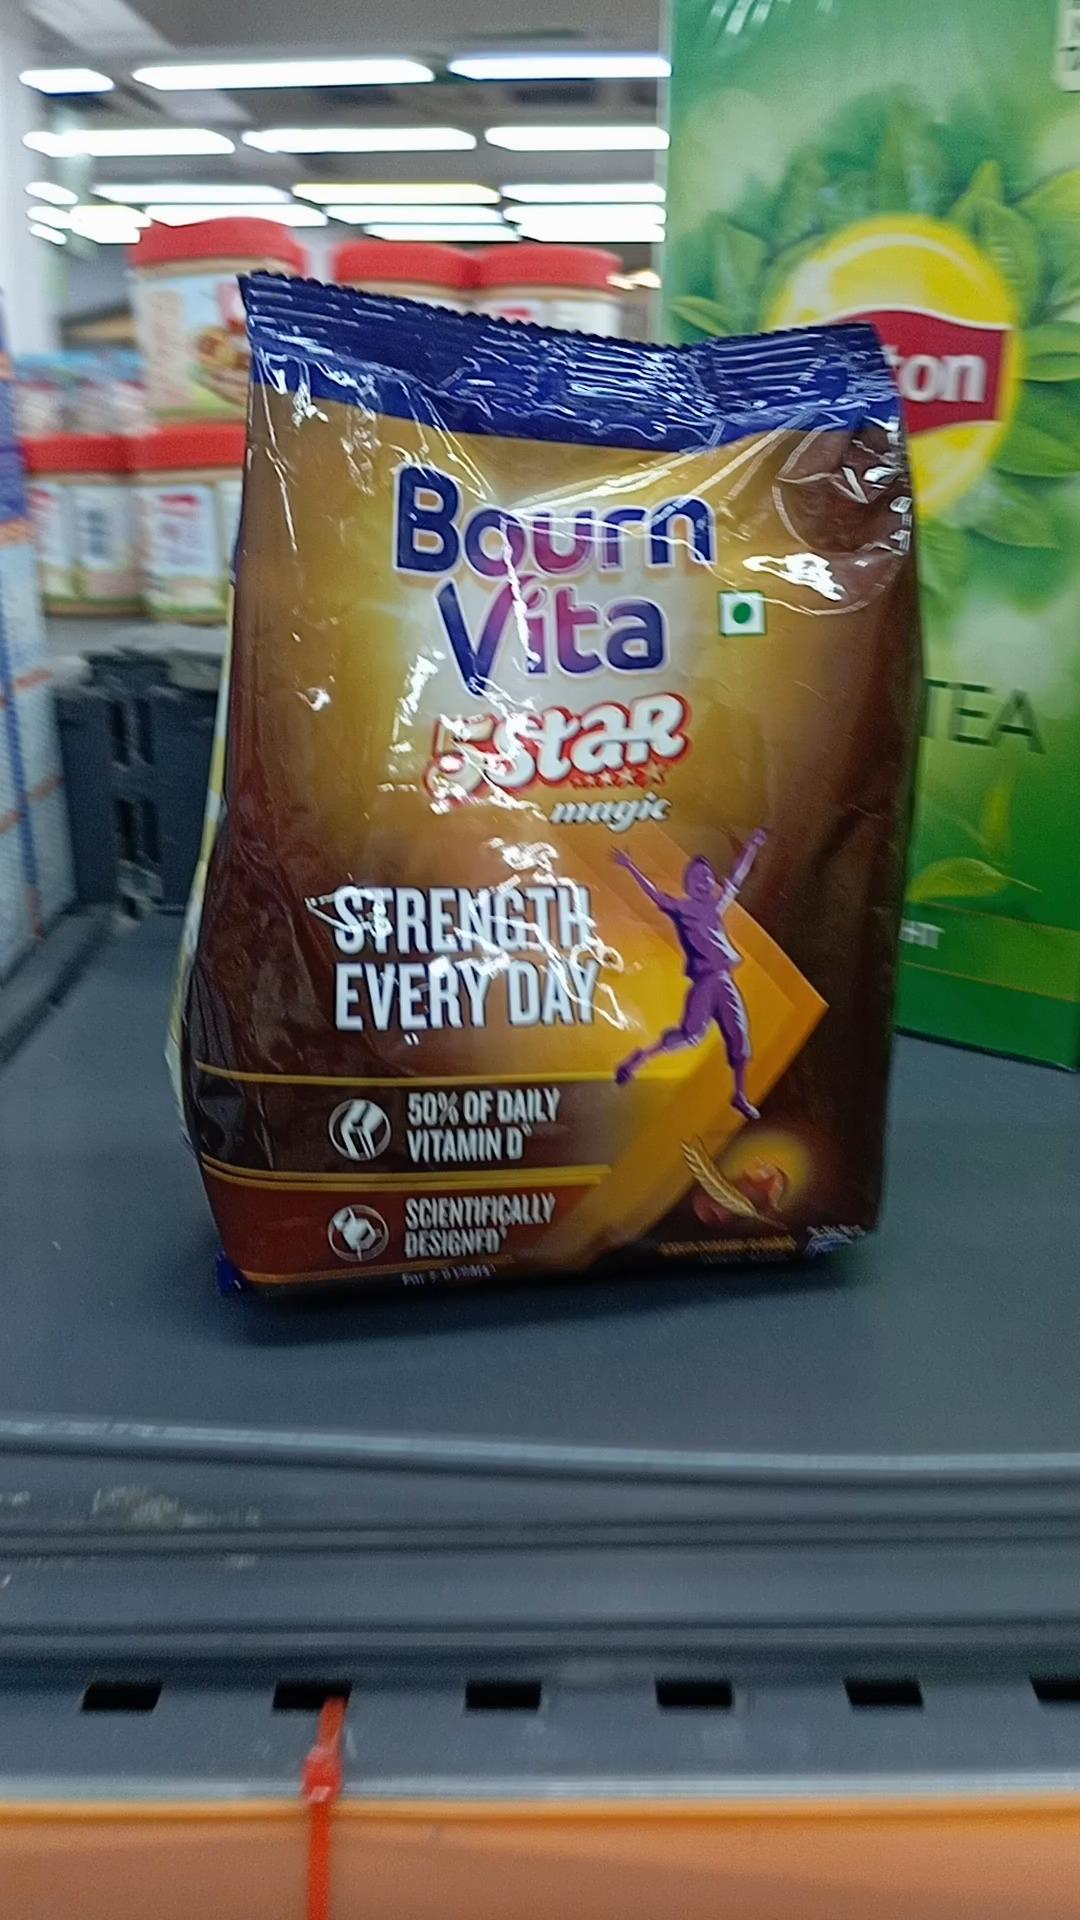BOURN_VITA_FIVE_STAR_MAGIC_500_G_POUCH: (228, 270, 885, 1290)
